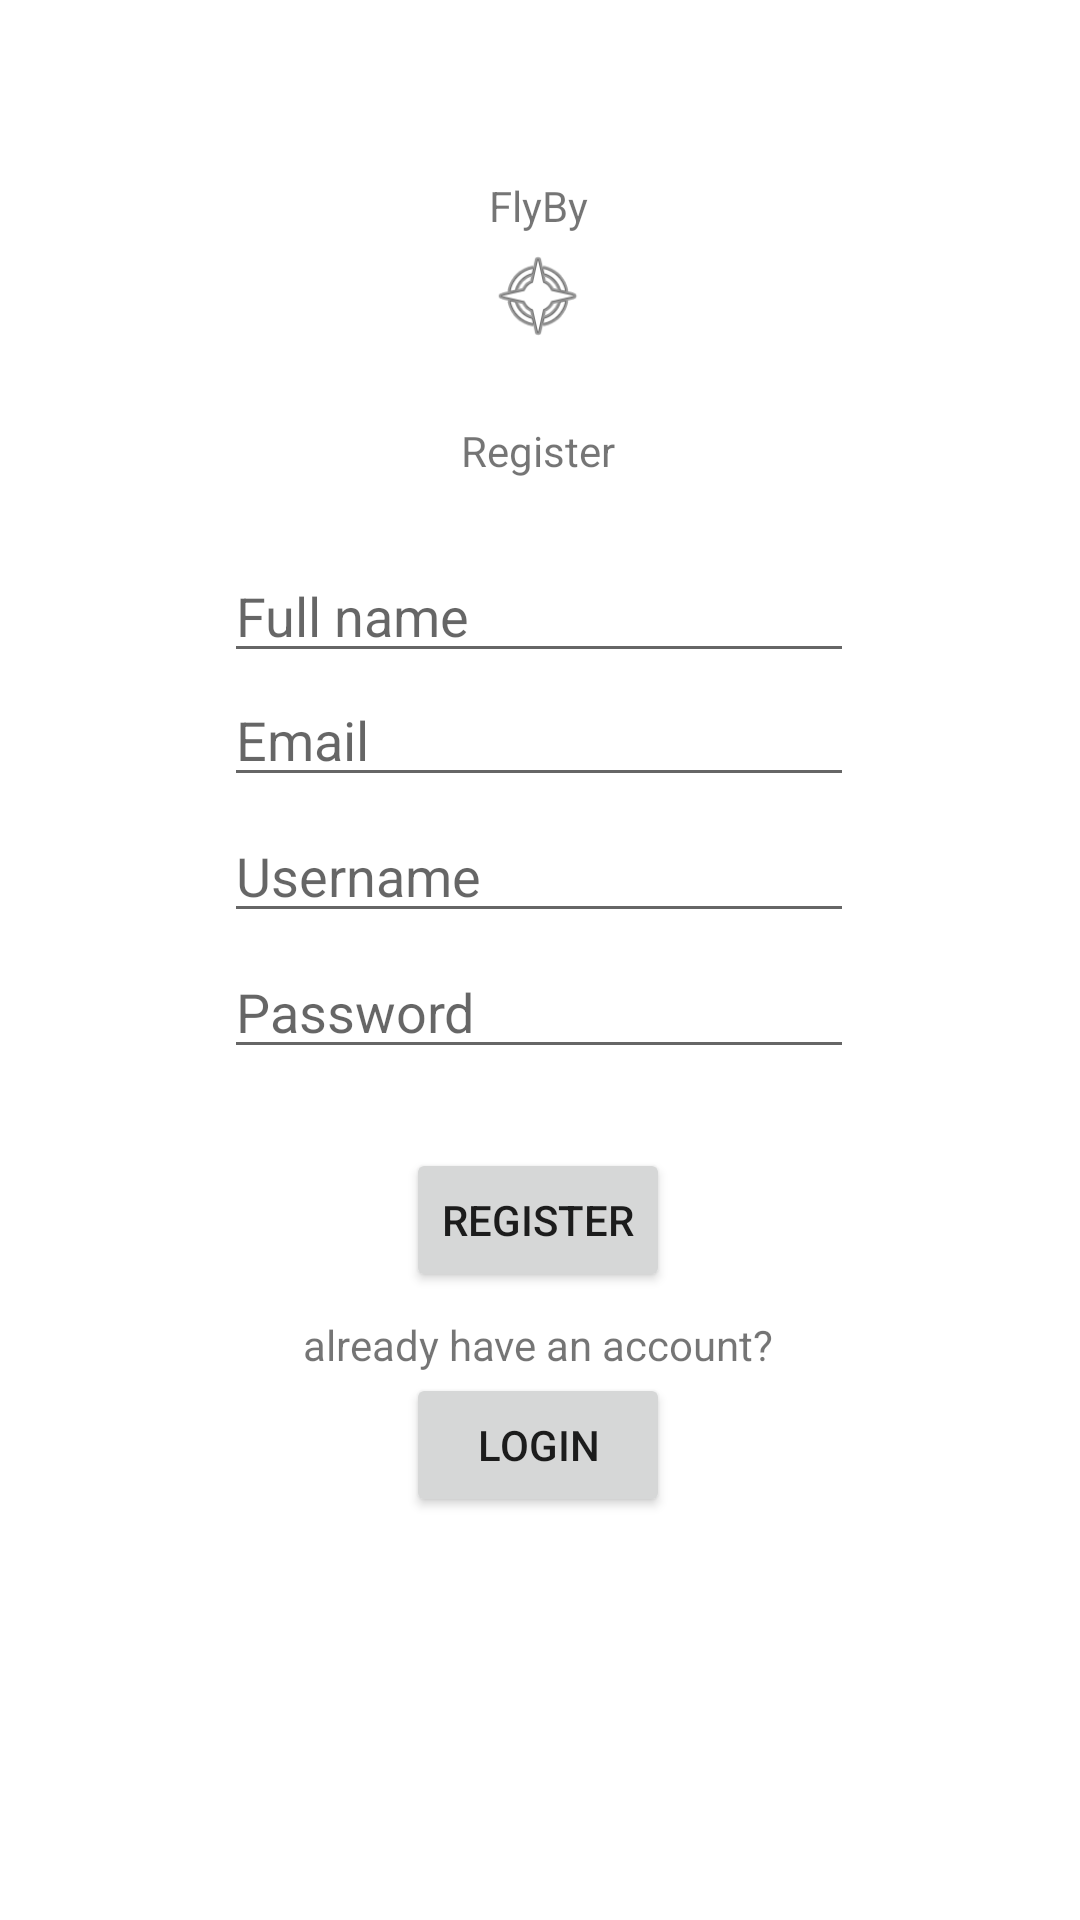

Where icons sit on this 1080px×1920px app screen, as (x1, y1, x2, y2):
compass: (499, 257, 577, 335)
